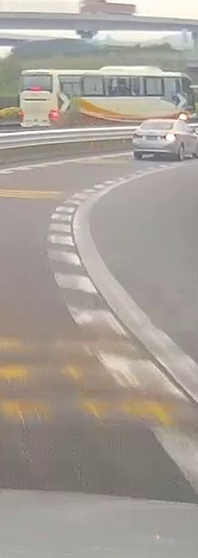L_light: (133, 132, 143, 139), (19, 109, 24, 120)
R_light: (161, 133, 176, 139), (51, 110, 58, 119)
T_light: (31, 87, 41, 90), (156, 121, 163, 123)
day-brake: (18, 69, 59, 128)
day-right: (131, 119, 178, 160)
